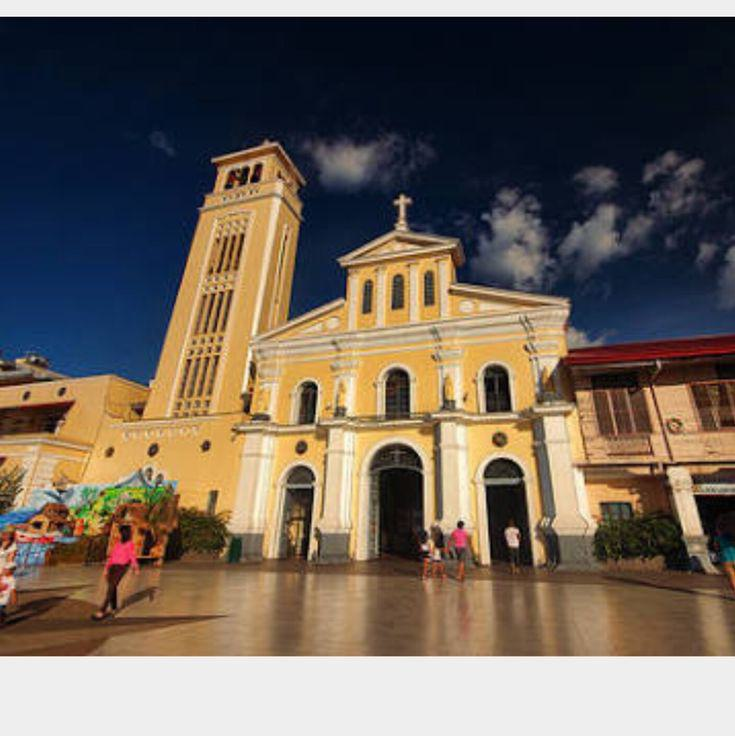manaoag_church_manaoag_pangasinan: (137, 135, 578, 569)
